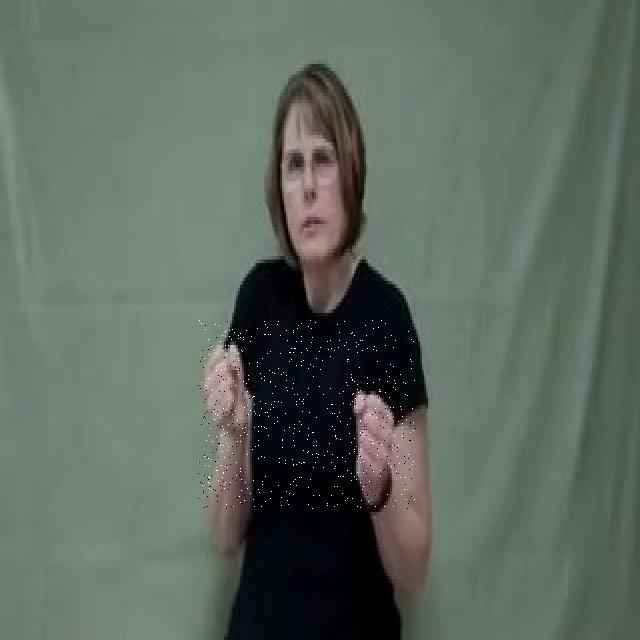cold: (198, 320, 416, 509)
